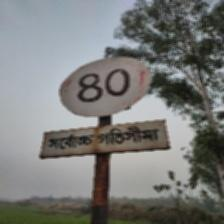Speed-limit: (40, 57, 168, 159)
